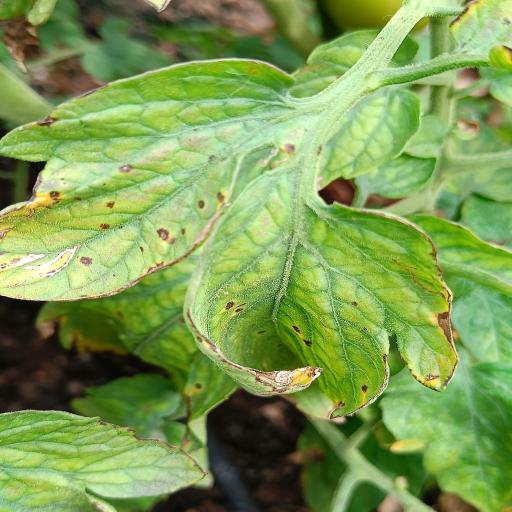Early Blight: (1, 55, 462, 421)
